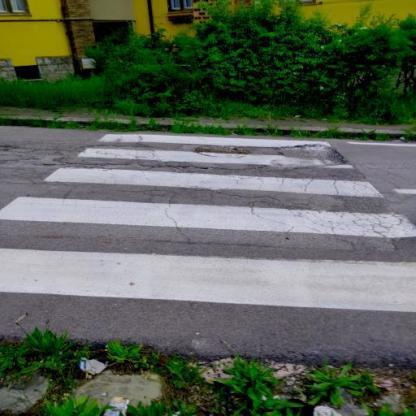crosswalk: (41, 144, 394, 203)
